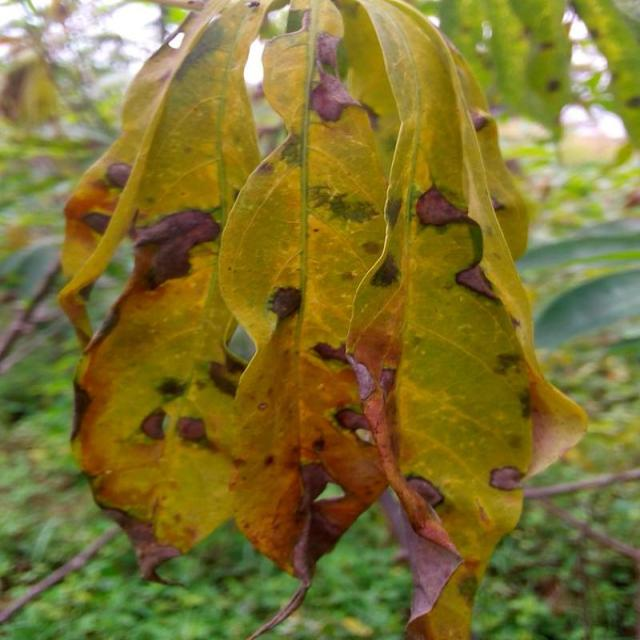cassava leaf: (59, 0, 590, 637)
